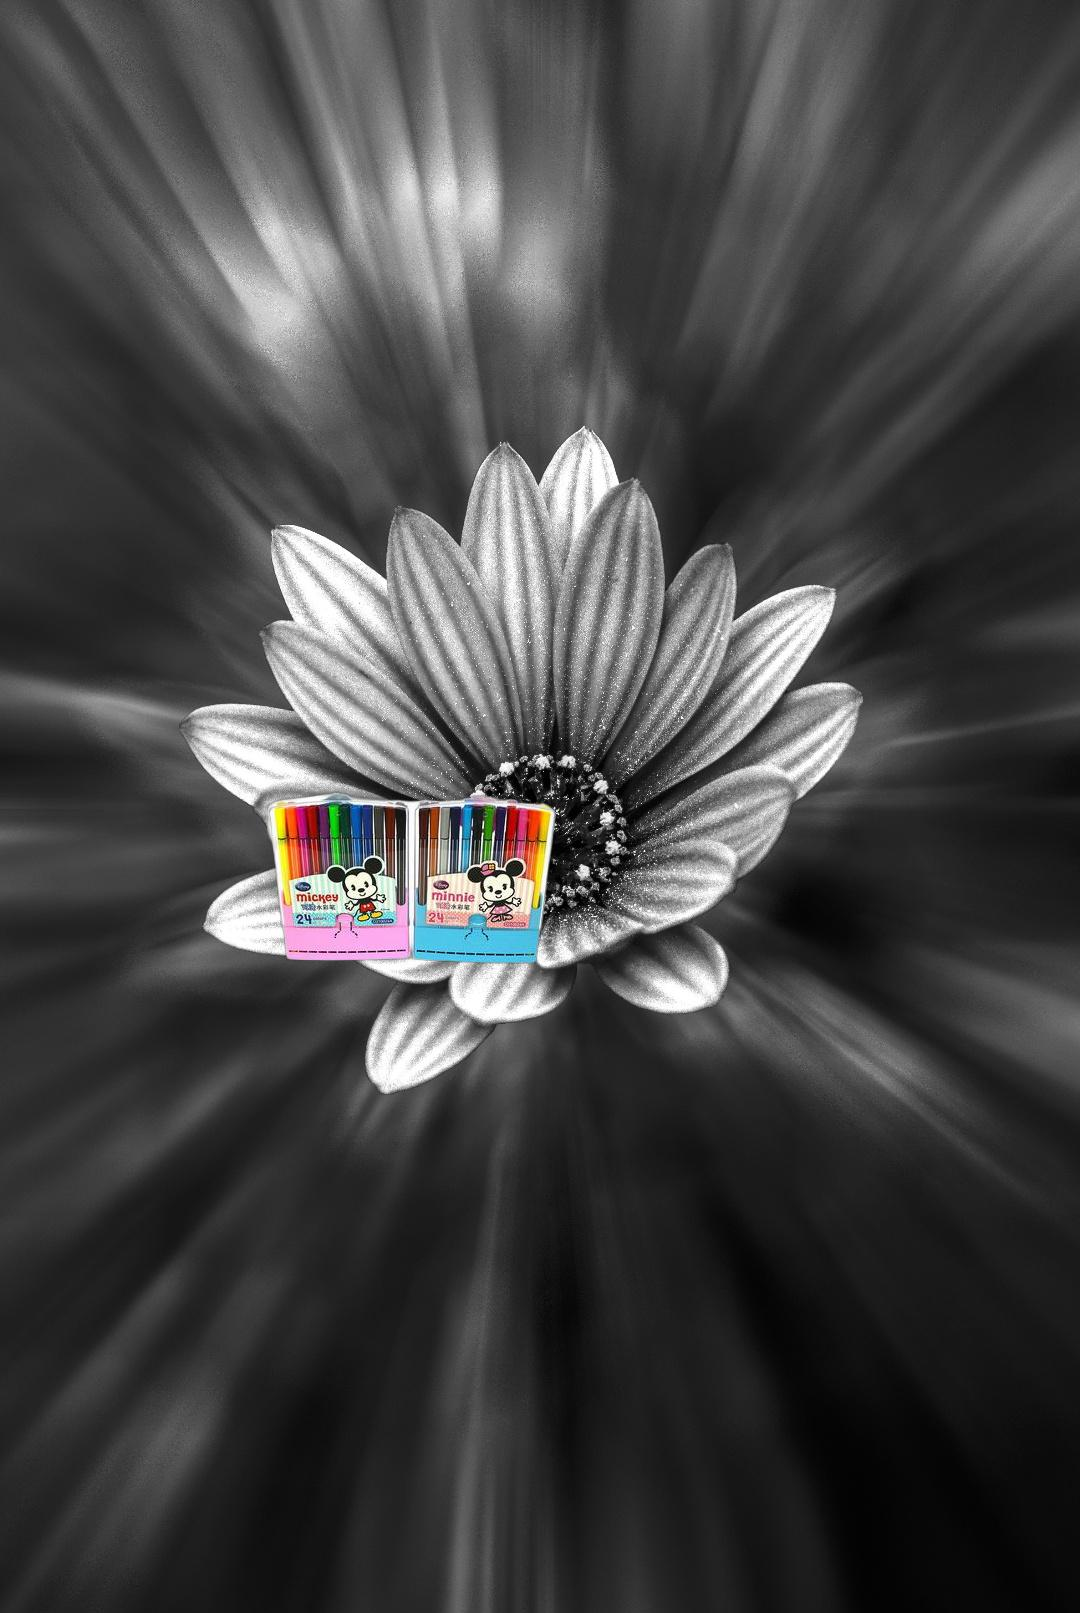penholder: (268, 790, 559, 966)
